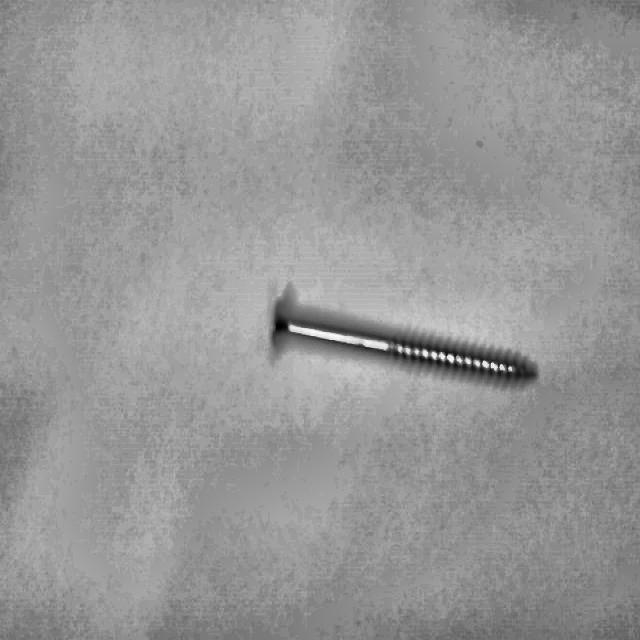Wood screw: (271, 290, 537, 382)
